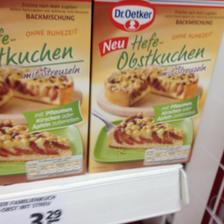cake: (93, 2, 224, 169), (1, 3, 89, 181)
